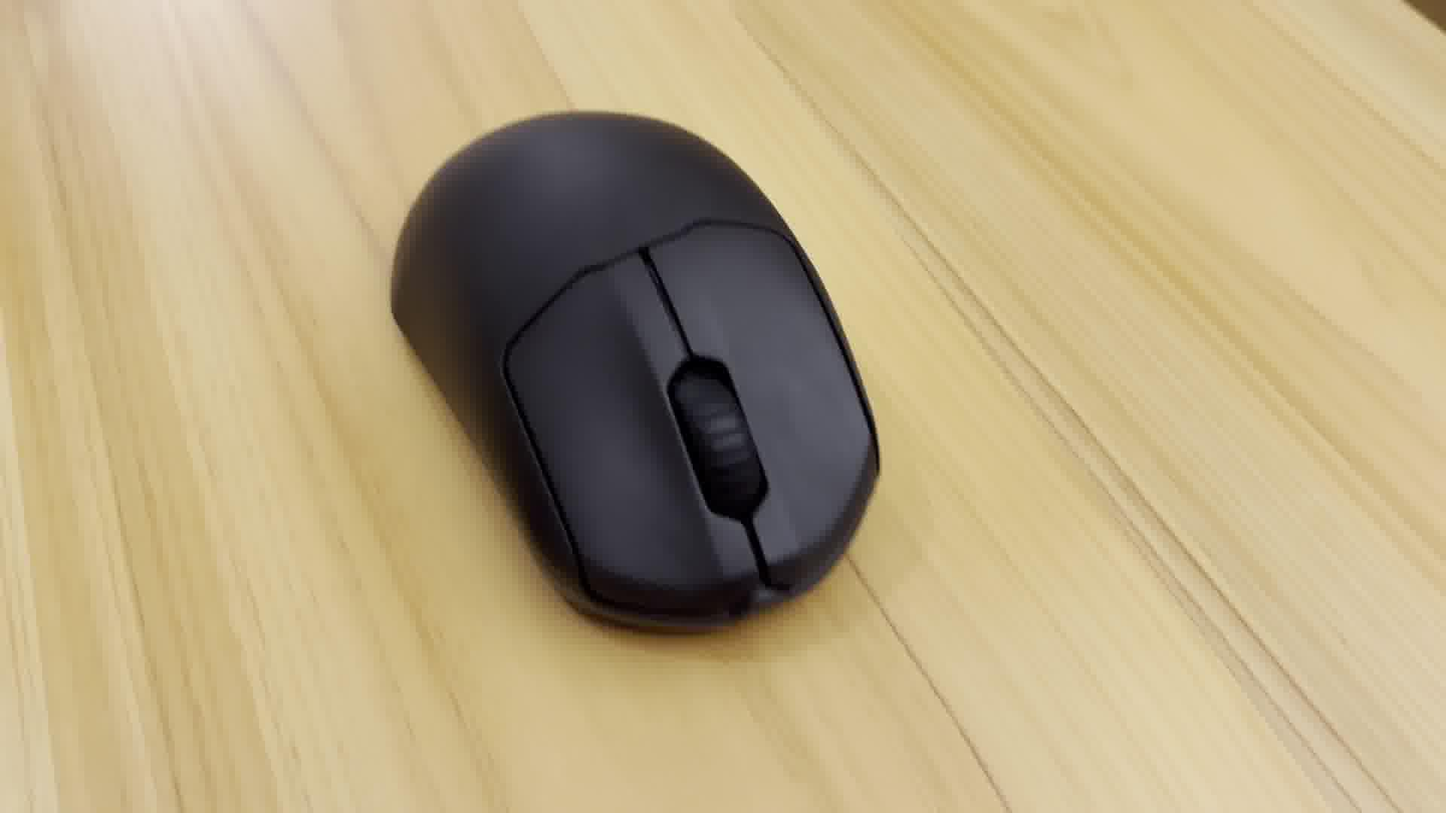mouse: (382, 95, 895, 653)
